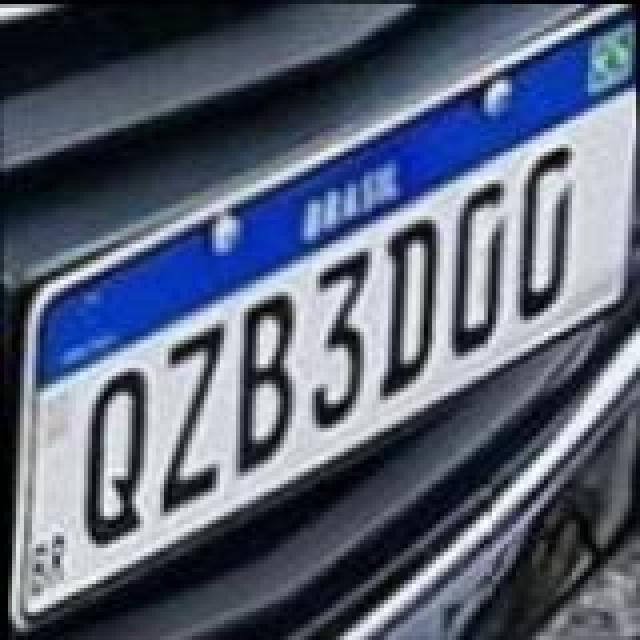3: (304, 246, 380, 430)
B: (230, 292, 306, 480)
D: (372, 208, 448, 400), (510, 138, 578, 326), (448, 176, 516, 360)
Q: (76, 368, 156, 552)
Z: (156, 322, 236, 518)
